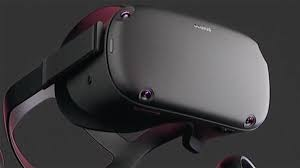oculus: (56, 5, 271, 138)
